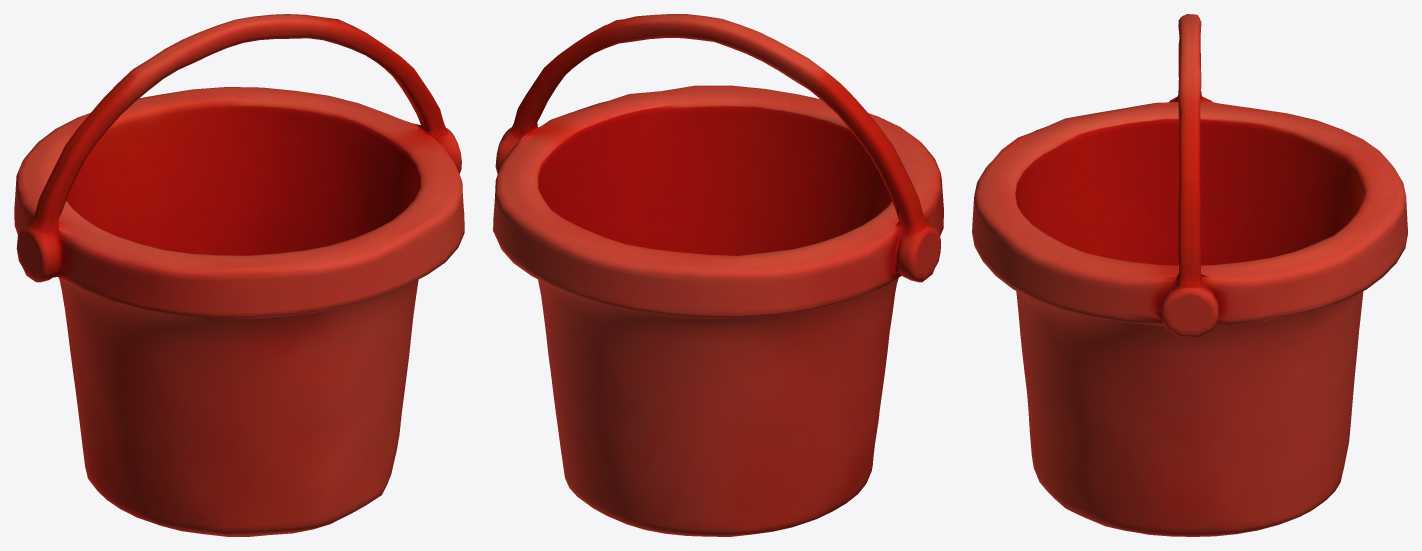
Rendered from base_basic_pbr.fbx.
3 renders of one model, left to right at view 1: azimuth 30°, elevation 25°; view 2: azimuth 150°, elevation 25°; view 3: azimuth 270°, elevation 25°, orthographic. The views are drawn at different scales.
Parts seen in each view (by area): view 1: model; view 2: model; view 3: model.
Boxes of the visible parts, <box> form: model: <box>14,14,464,536</box>; model: <box>493,14,943,536</box>; model: <box>972,14,1407,536</box>.
Size of the model in its own units: 164 by 171 by 152.
Materials: 1 (1 with a texture image).
